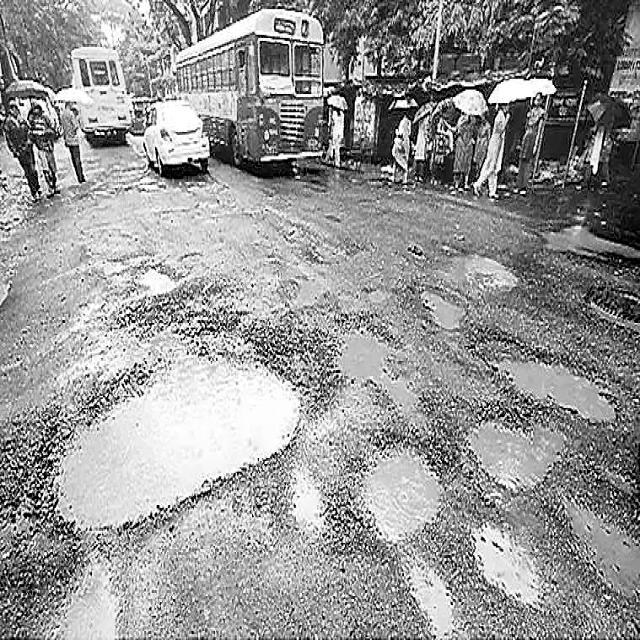pathole: (0, 193, 640, 636)
